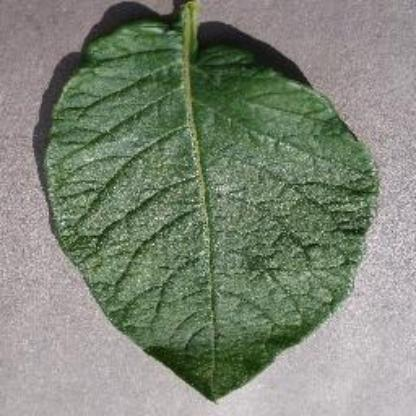Healthy-plant: (41, 2, 376, 404)
